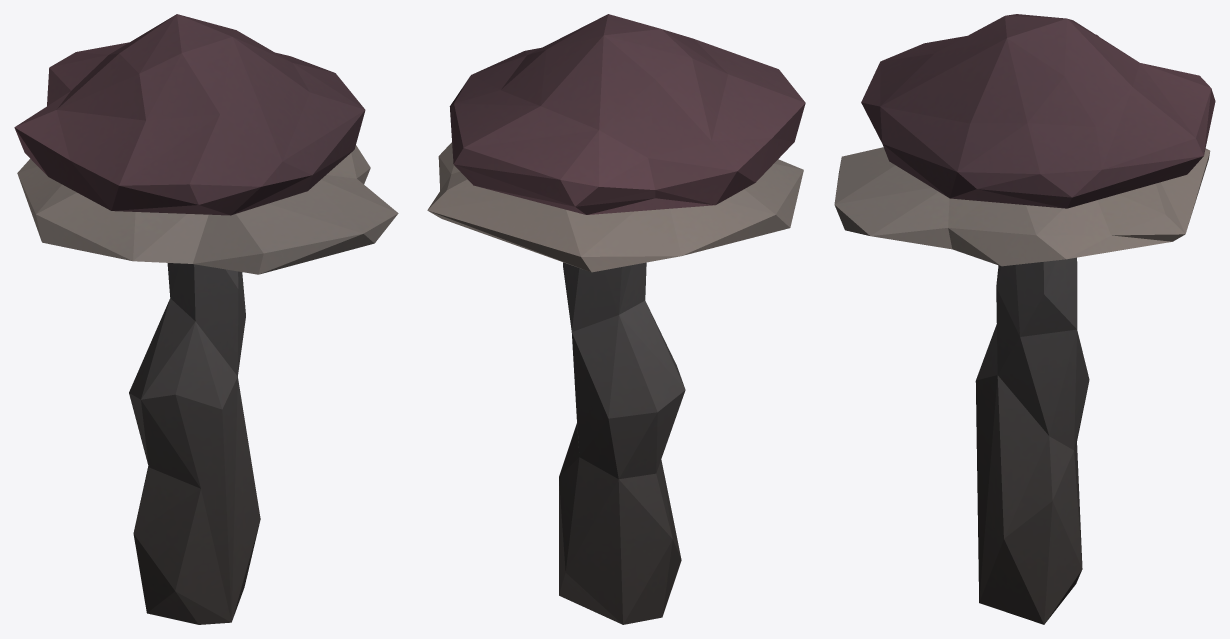
The model's file is Mush_2.fbx.
3 views of the same model, side by side, from view 1: azimuth 30°, elevation 25°; view 2: azimuth 150°, elevation 25°; view 3: azimuth 270°, elevation 25° (orthographic).
Visible parts, largest first — view 1: polySurface1316; view 2: polySurface1316; view 3: polySurface1316.
Boxes of the visible parts, box(x1,y1,x2,y2) form: polySurface1316: box(14, 14, 398, 624); polySurface1316: box(427, 14, 805, 624); polySurface1316: box(834, 14, 1215, 624).
Bounding box in the file's own units: 1.43 × 2.44 × 1.45.
